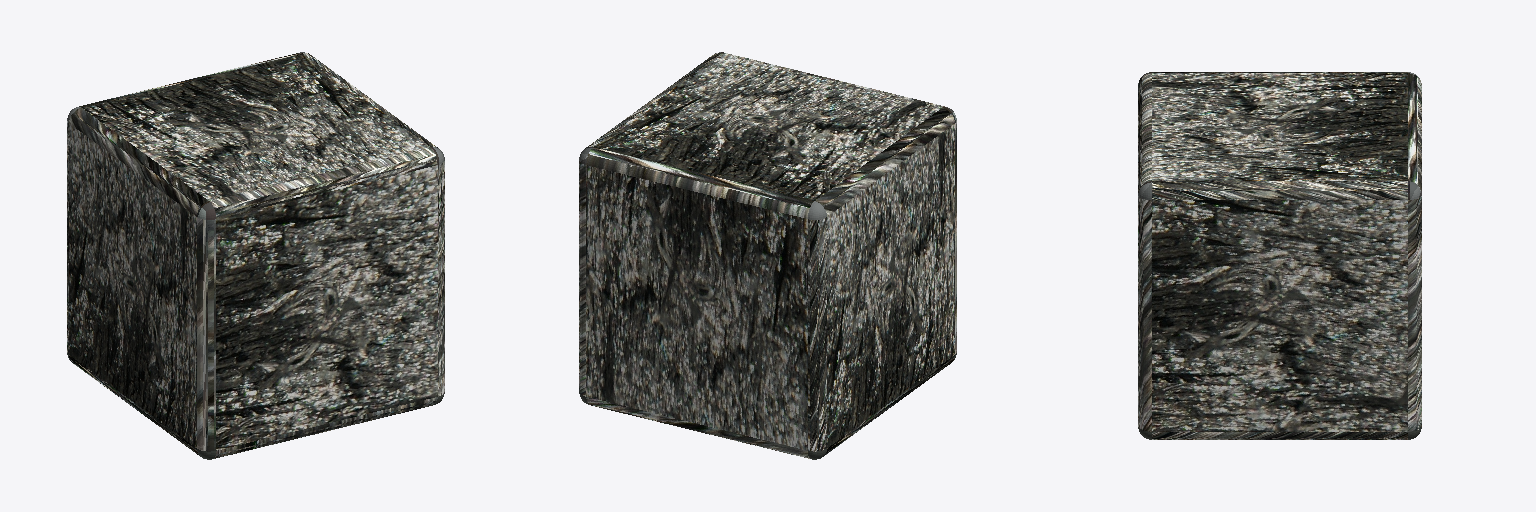
3 views of the same model, side by side, from view 1: azimuth 30°, elevation 25°; view 2: azimuth 150°, elevation 25°; view 3: azimuth 270°, elevation 25° (orthographic).
Parts seen in each view (by area): view 1: Cube; view 2: Cube; view 3: Cube.
Boxes of the visible parts, x1=… form: Cube: x1=67, y1=52, x2=444, y2=459; Cube: x1=579, y1=52, x2=956, y2=459; Cube: x1=1138, y1=72, x2=1421, y2=439.
Bounding box in the file's own units: 2 × 2 × 2.
1 materials, 1 textured.